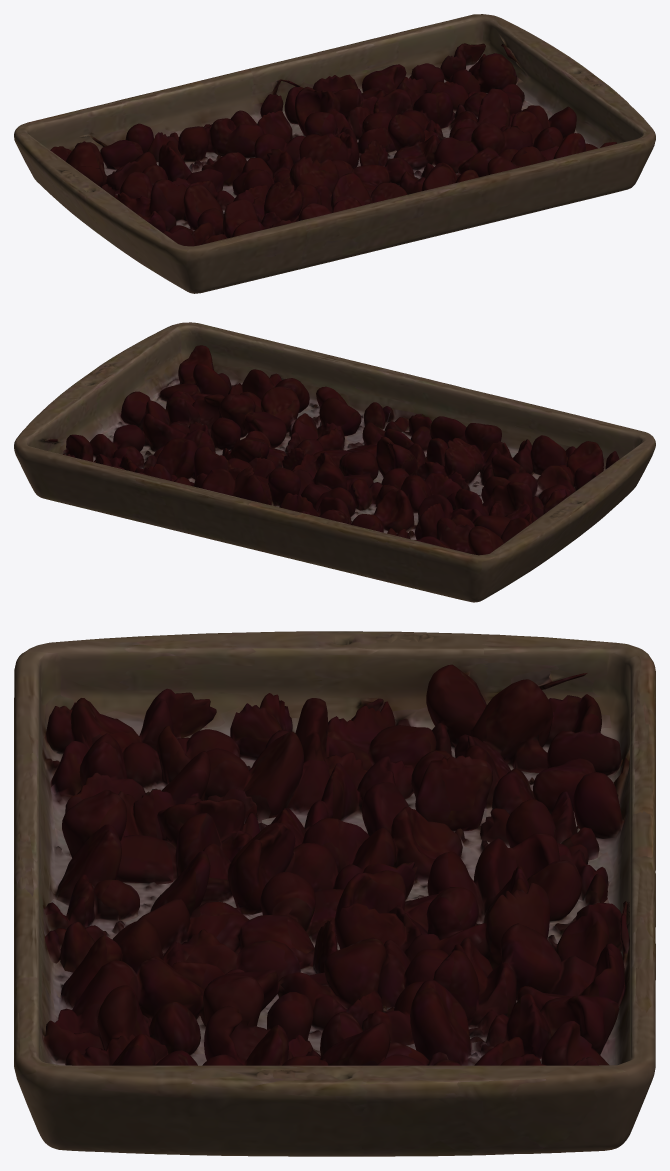
Rendered from bizcocho-frambuesa.glb.
The picture shows the model from 3 angles, top to bottom: view 1: azimuth 30°, elevation 25°; view 2: azimuth 150°, elevation 25°; view 3: azimuth 270°, elevation 25°; orthographic projection. The views are drawn at different scales.
Parts seen in each view (by area): view 1: tripo_node_3777c561-5f72-48cd-a84d-720b6a8459f8; view 2: tripo_node_3777c561-5f72-48cd-a84d-720b6a8459f8; view 3: tripo_node_3777c561-5f72-48cd-a84d-720b6a8459f8.
Boxes of the visible parts, x1,y1,x2,y2 form: tripo_node_3777c561-5f72-48cd-a84d-720b6a8459f8: [14, 14, 655, 293]; tripo_node_3777c561-5f72-48cd-a84d-720b6a8459f8: [14, 322, 655, 602]; tripo_node_3777c561-5f72-48cd-a84d-720b6a8459f8: [14, 631, 655, 1156].
Size of the model in its own units: 0.9797 by 0.1007 by 0.5844.
1 material, 1 textured.
